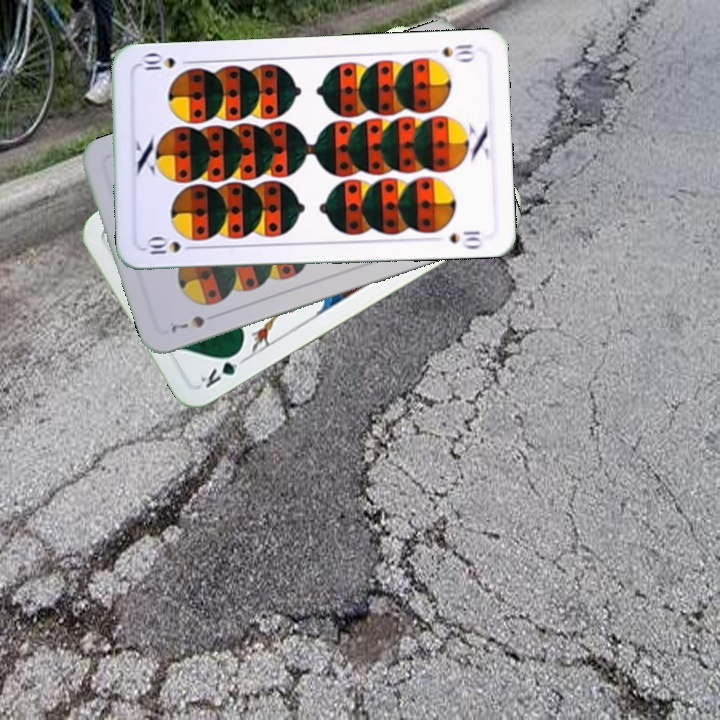GK: (196, 346, 250, 391)
S10: (141, 235, 200, 257), (438, 40, 477, 64)
S7: (167, 311, 208, 336)
